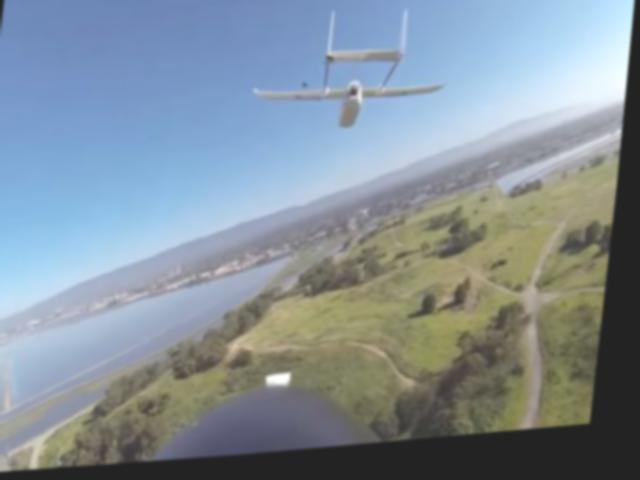uav: (250, 5, 457, 145)
